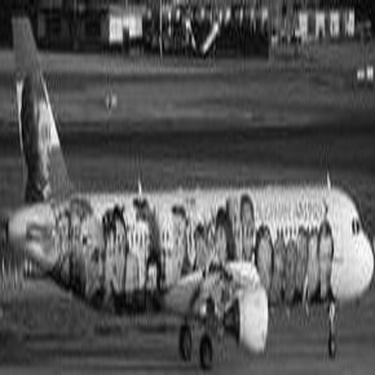airplane: (7, 6, 370, 370)
